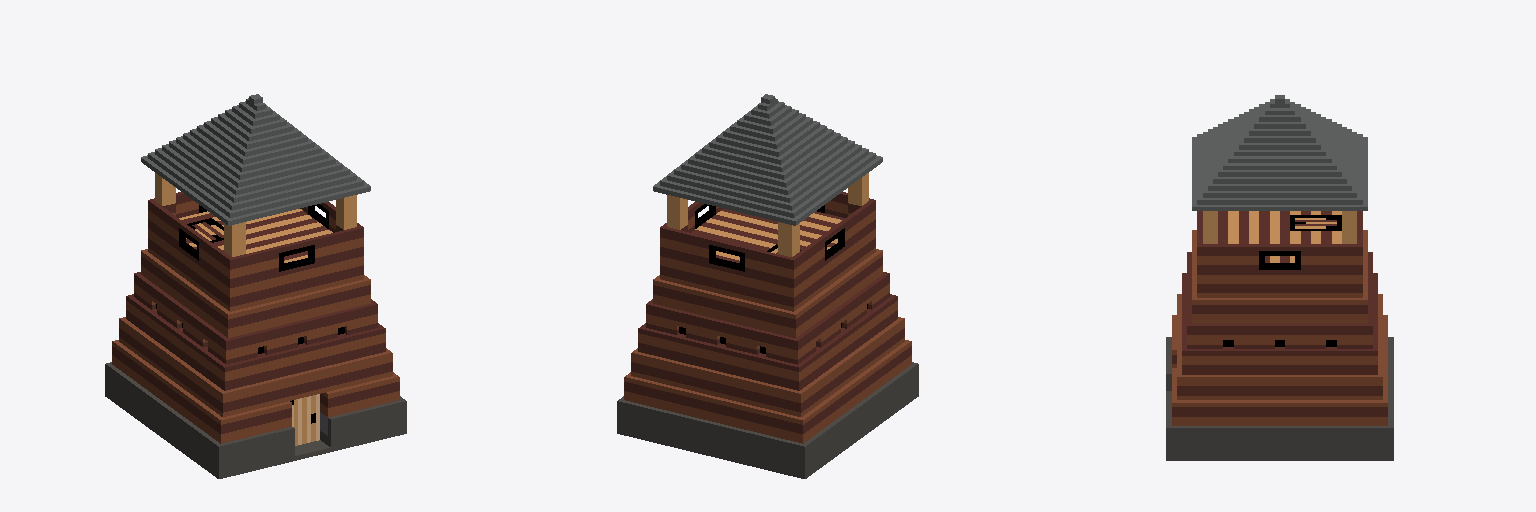
3 renders of one model, left to right at view 1: azimuth 30°, elevation 25°; view 2: azimuth 150°, elevation 25°; view 3: azimuth 270°, elevation 25°, orthographic.
Parts seen in each view (by area): view 1: object 1; view 2: object 1; view 3: object 1.
Boxes of the visible parts, x1=… form: object 1: x1=105, y1=94, x2=406, y2=478; object 1: x1=617, y1=94, x2=918, y2=478; object 1: x1=1166, y1=95, x2=1393, y2=460.
Bounding box in the file's own units: 4.2 × 6.8 × 4.4.
1 materials, 1 textured.